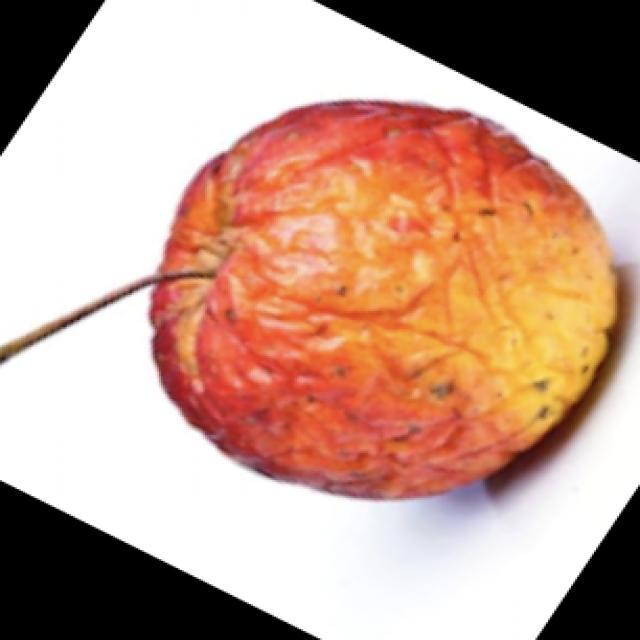Rotten: (158, 120, 627, 480)
